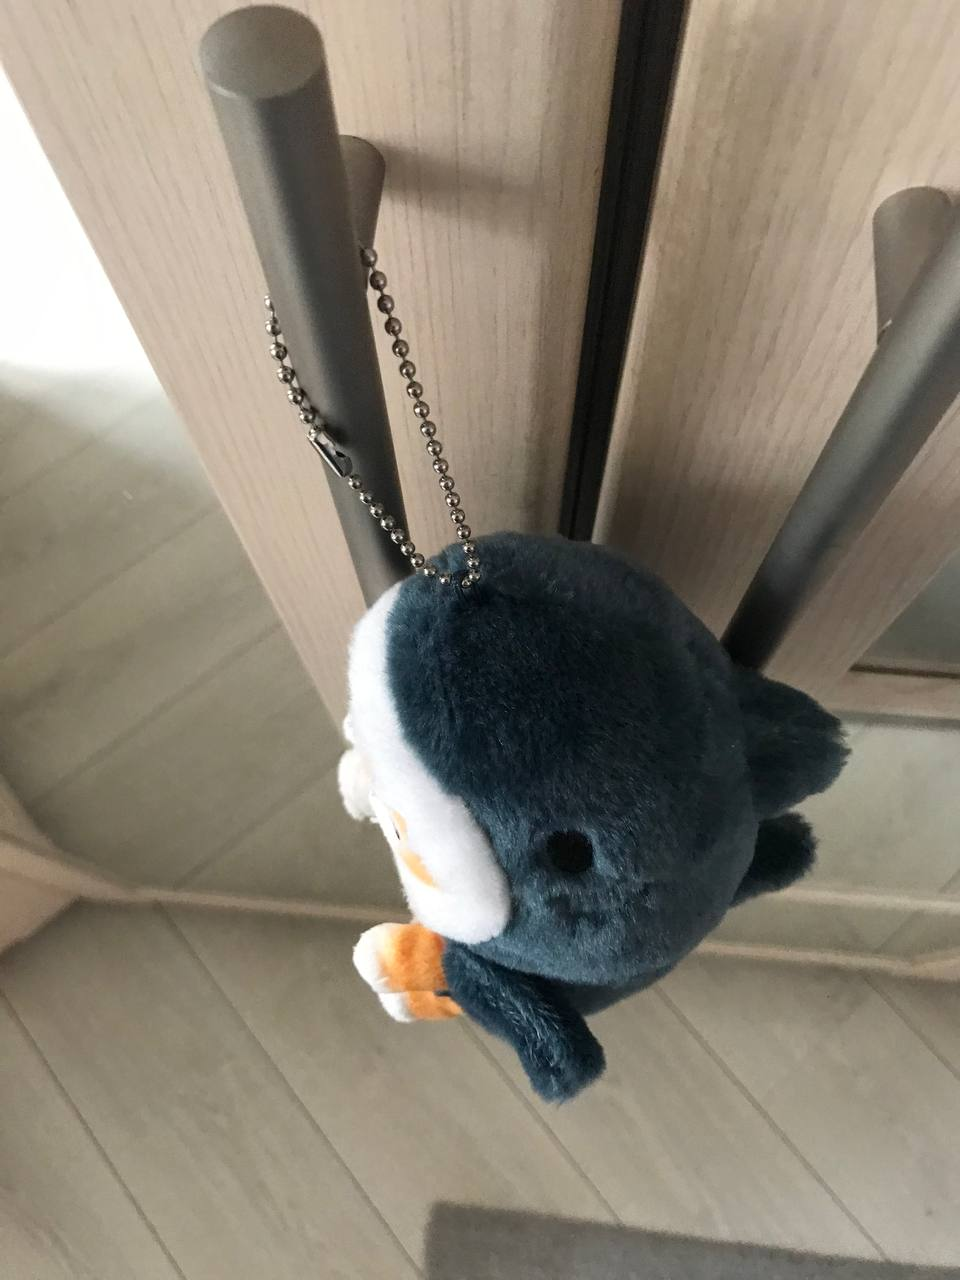cat_shark: (336, 531, 861, 1109)
